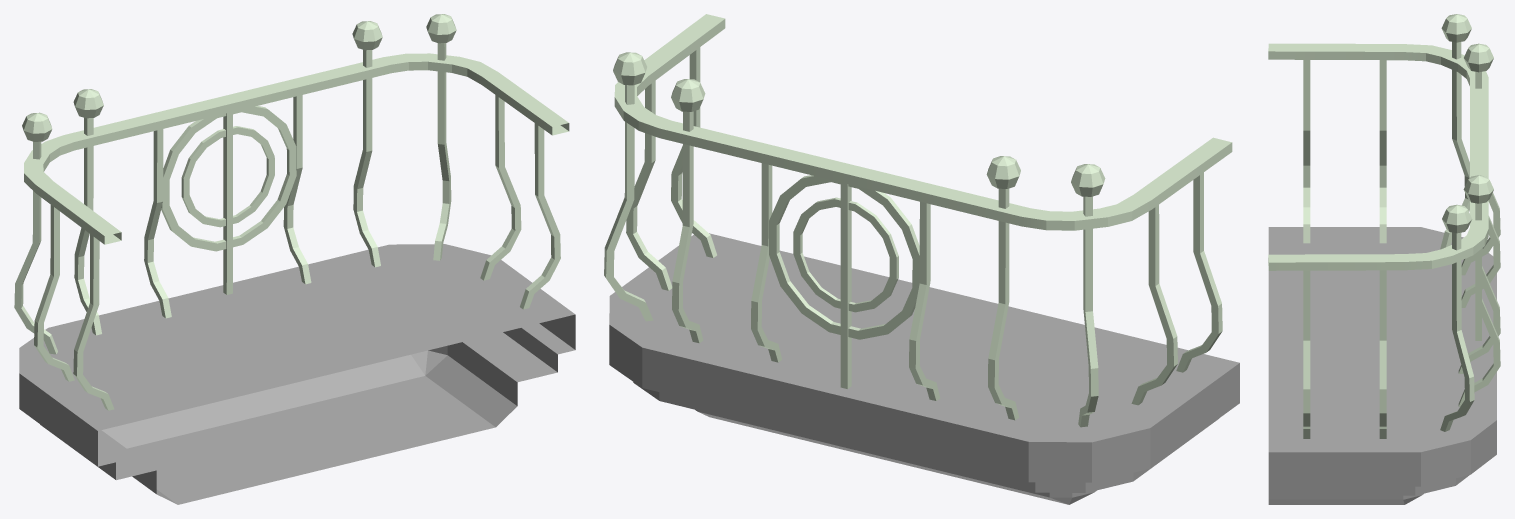
The model's file is Embassy_Balcony.fbx.
3 views of the same model, side by side, from view 1: azimuth 30°, elevation 25°; view 2: azimuth 150°, elevation 25°; view 3: azimuth 270°, elevation 25° (orthographic). The views are drawn at different scales.
Parts seen in each view (by area): view 1: Embassy_Balcony; view 2: Embassy_Balcony; view 3: Embassy_Balcony.
Part boxes in pixels (<box>): Embassy_Balcony: <box>14,14,575,504</box>; Embassy_Balcony: <box>604,14,1239,504</box>; Embassy_Balcony: <box>1268,14,1500,504</box>.
Size of the model in its own units: 2.84 by 1.85 by 1.22.
